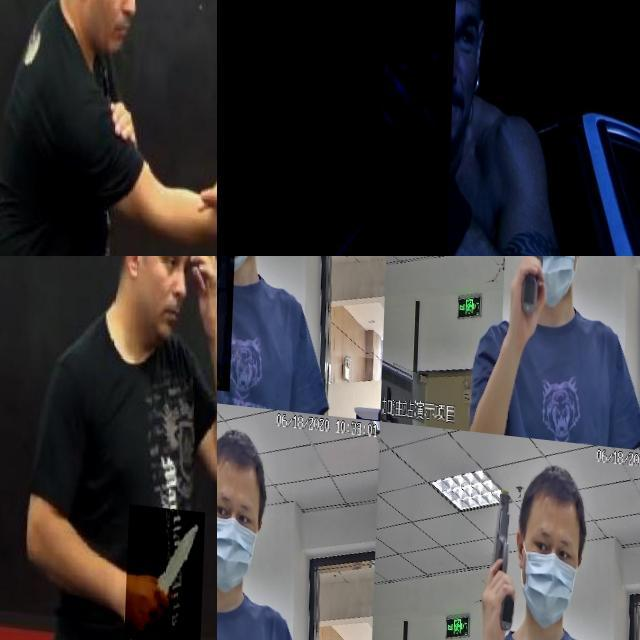-: (127, 500, 208, 640)
gun-knife-thesis - v11 Yolov5 augmented: (305, 0, 461, 256), (486, 472, 522, 626), (517, 256, 557, 332), (217, 256, 238, 387), (217, 446, 235, 594)
